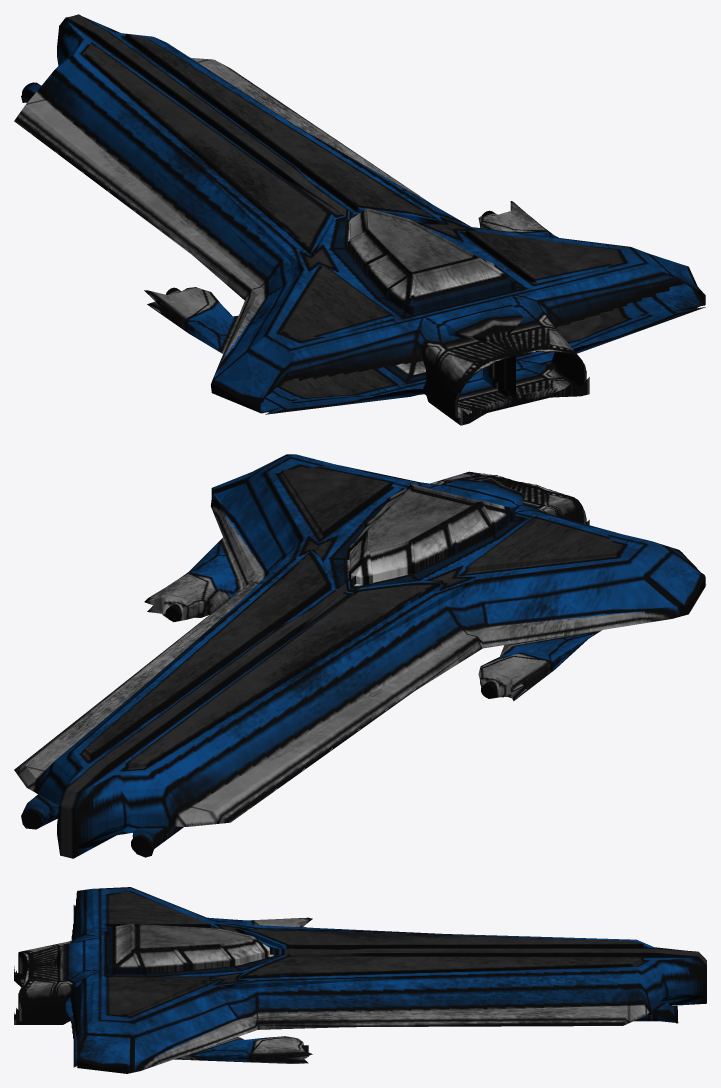
The model's file is Player_ship.fbx.
3 renders of one model, top to bottom at view 1: azimuth 30°, elevation 25°; view 2: azimuth 150°, elevation 25°; view 3: azimuth 270°, elevation 25°, orthographic. The views are drawn at different scales.
Visible parts, largest first — view 1: PlayerShip; view 2: PlayerShip; view 3: PlayerShip.
Boxes of the visible parts, bbox=[...] form: PlayerShip: bbox=[14, 14, 705, 425]; PlayerShip: bbox=[14, 454, 705, 858]; PlayerShip: bbox=[14, 887, 706, 1073].
Size of the model in its own units: 1049 by 183 by 1745.
Materials: 1 (1 with a texture image).
